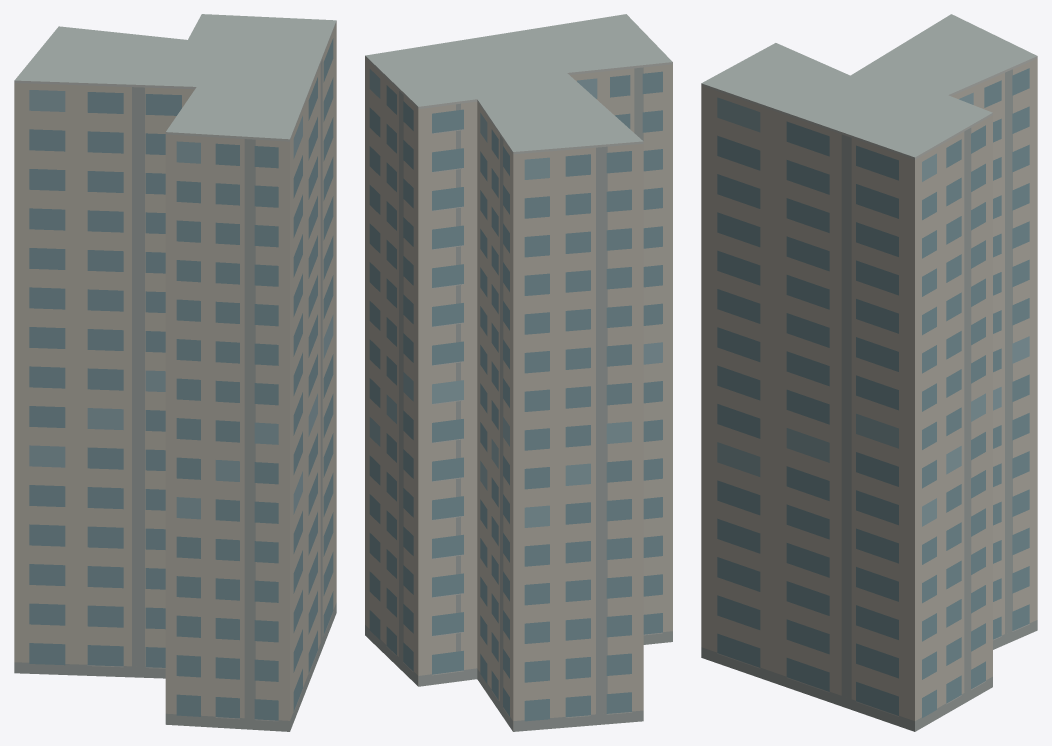
The model's file is residential-7b49a421-7c8a-4736-86f6-a04b232fc03d.glb.
The picture shows the model from 3 angles, left to right: view 1: azimuth 30°, elevation 25°; view 2: azimuth 150°, elevation 25°; view 3: azimuth 270°, elevation 25°; orthographic projection. The views are drawn at different scales.
Parts seen in each view (by area): view 1: residential-7b49a421-7c8a-4736-86f6-a04b232fc03d.tmp; view 2: residential-7b49a421-7c8a-4736-86f6-a04b232fc03d.tmp; view 3: residential-7b49a421-7c8a-4736-86f6-a04b232fc03d.tmp.
Boxes of the visible parts, <box> form: residential-7b49a421-7c8a-4736-86f6-a04b232fc03d.tmp: <box>14,14,336,731</box>; residential-7b49a421-7c8a-4736-86f6-a04b232fc03d.tmp: <box>365,14,672,731</box>; residential-7b49a421-7c8a-4736-86f6-a04b232fc03d.tmp: <box>701,14,1037,731</box>.
Size of the model in its own units: 32.15 by 60 by 31.85.
